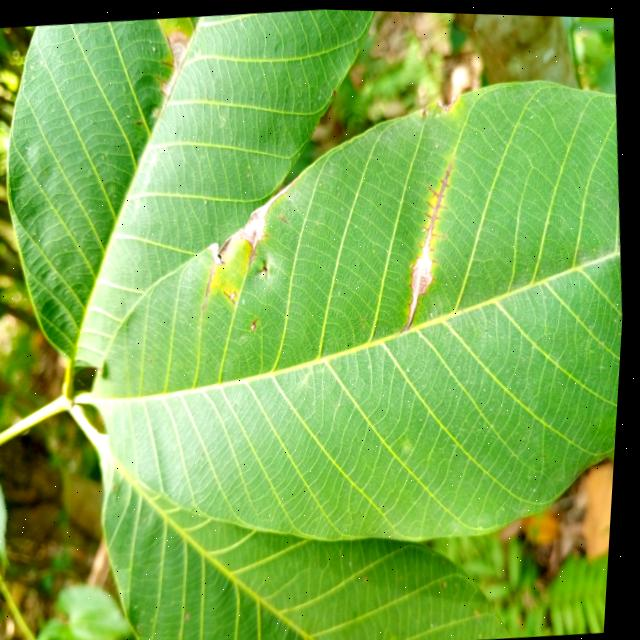Corynespora: (389, 160, 469, 330), (200, 258, 226, 315), (248, 242, 262, 265), (226, 287, 240, 303), (280, 211, 292, 222)
Leaf-Blight: (205, 178, 300, 263), (157, 27, 194, 95)
